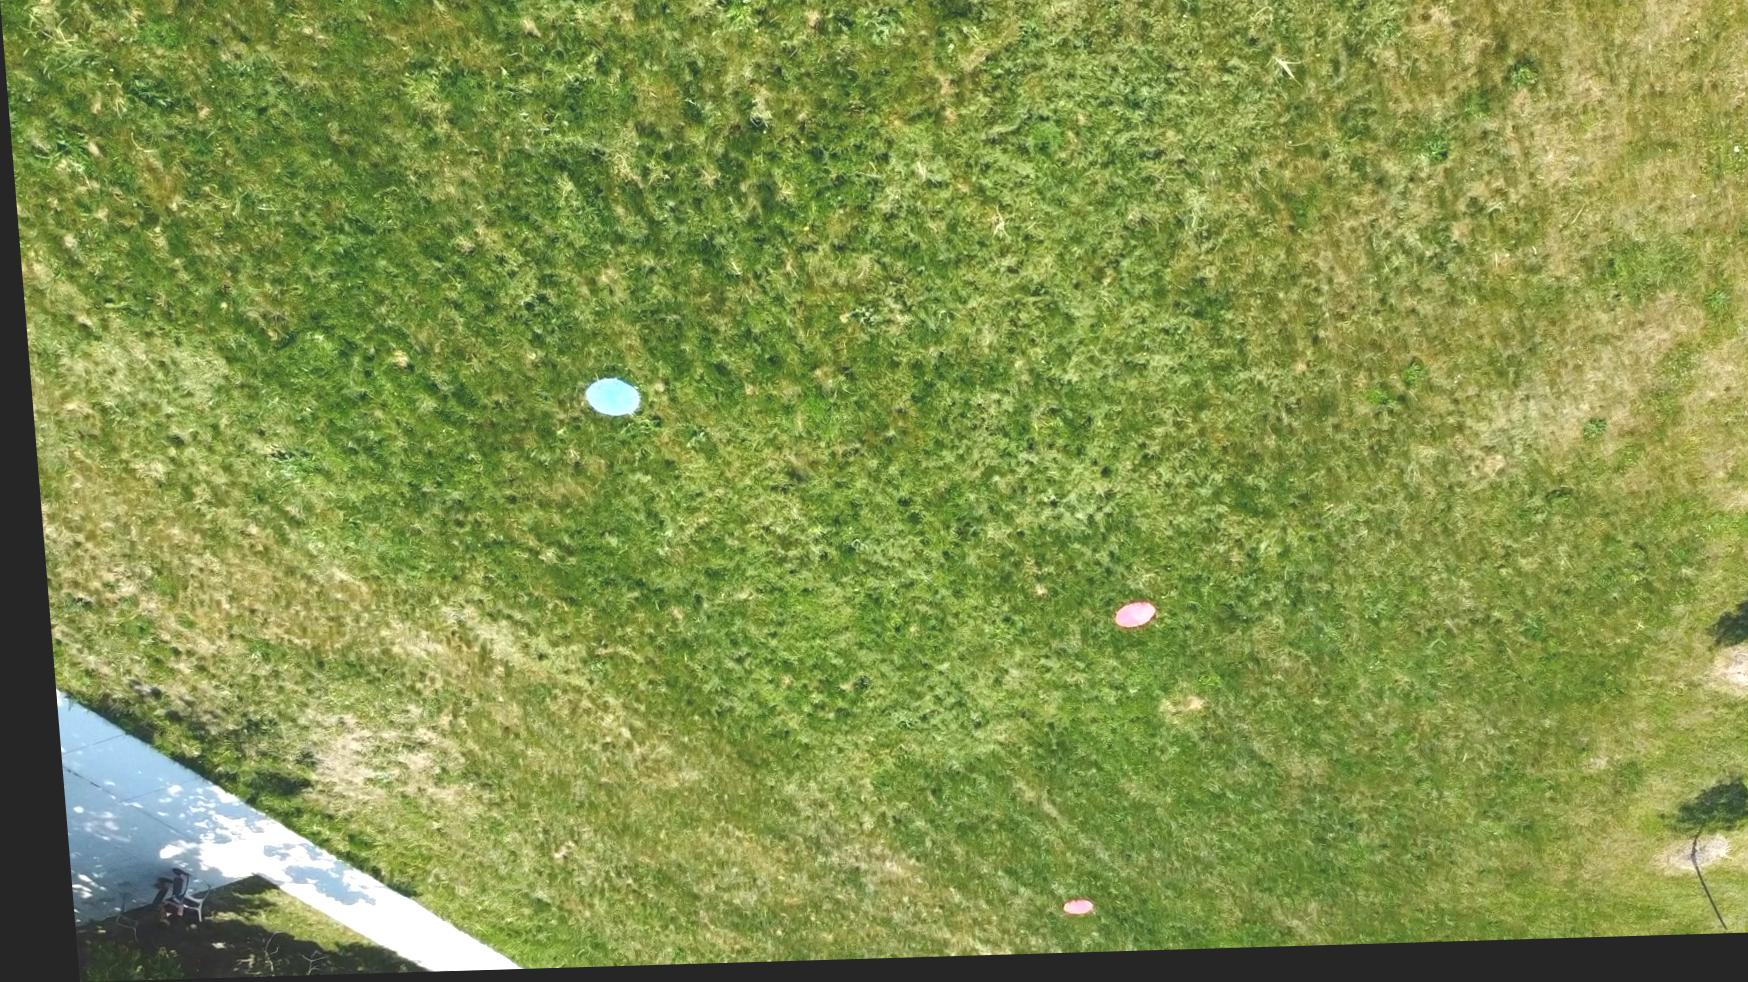Blue: (575, 378, 639, 423)
Red: (1100, 606, 1150, 636), (1044, 903, 1079, 924)
